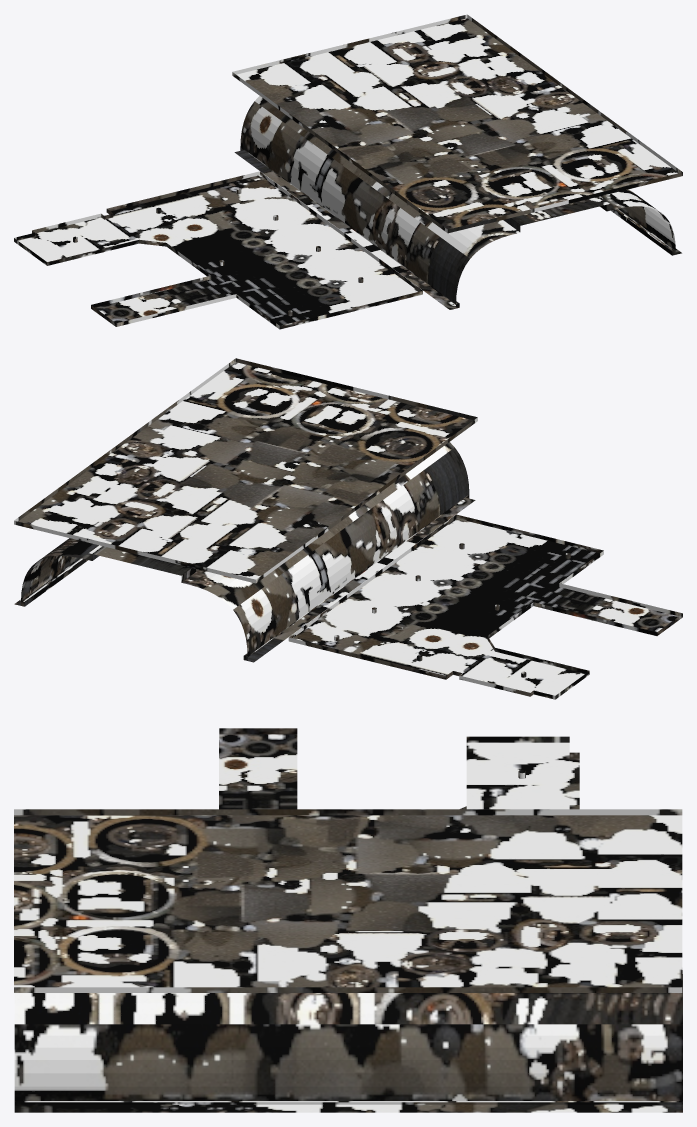
Rendered from hotelhamilton_10.obj.
The picture shows the model from 3 angles, top to bottom: view 1: azimuth 30°, elevation 25°; view 2: azimuth 150°, elevation 25°; view 3: azimuth 270°, elevation 25°; orthographic projection. The views are drawn at different scales.
Size of the model in its own units: 13.84 by 2.14 by 10.33.
